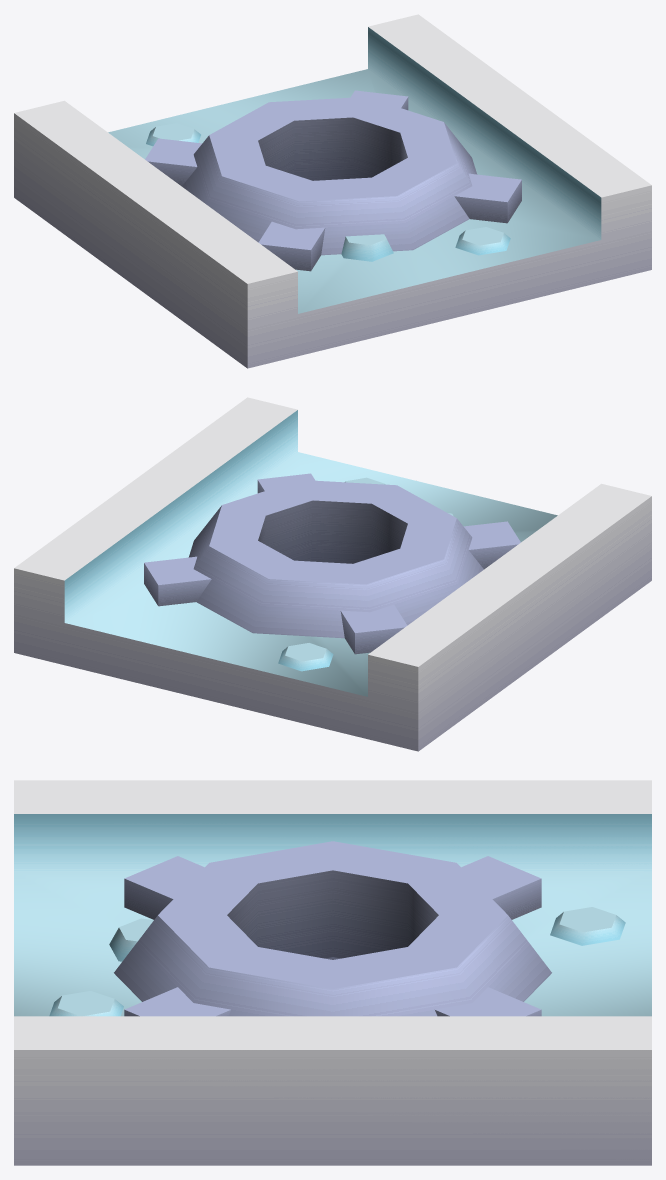
The model's file is snow-tile-spawn-round.glb.
3 views of the same model, one above another, from view 1: azimuth 30°, elevation 25°; view 2: azimuth 150°, elevation 25°; view 3: azimuth 270°, elevation 25° (orthographic). The views are drawn at different scales.
Parts seen in each view (by area): view 1: snow-tile-spawn-round; view 2: snow-tile-spawn-round; view 3: snow-tile-spawn-round.
Boxes of the visible parts, x1,y1,x2,y2 form: snow-tile-spawn-round: (14, 14, 651, 368); snow-tile-spawn-round: (14, 397, 651, 751); snow-tile-spawn-round: (14, 780, 651, 1165).
Size of the model in its own units: 1 by 0.2 by 1.
1 material, 1 textured.
